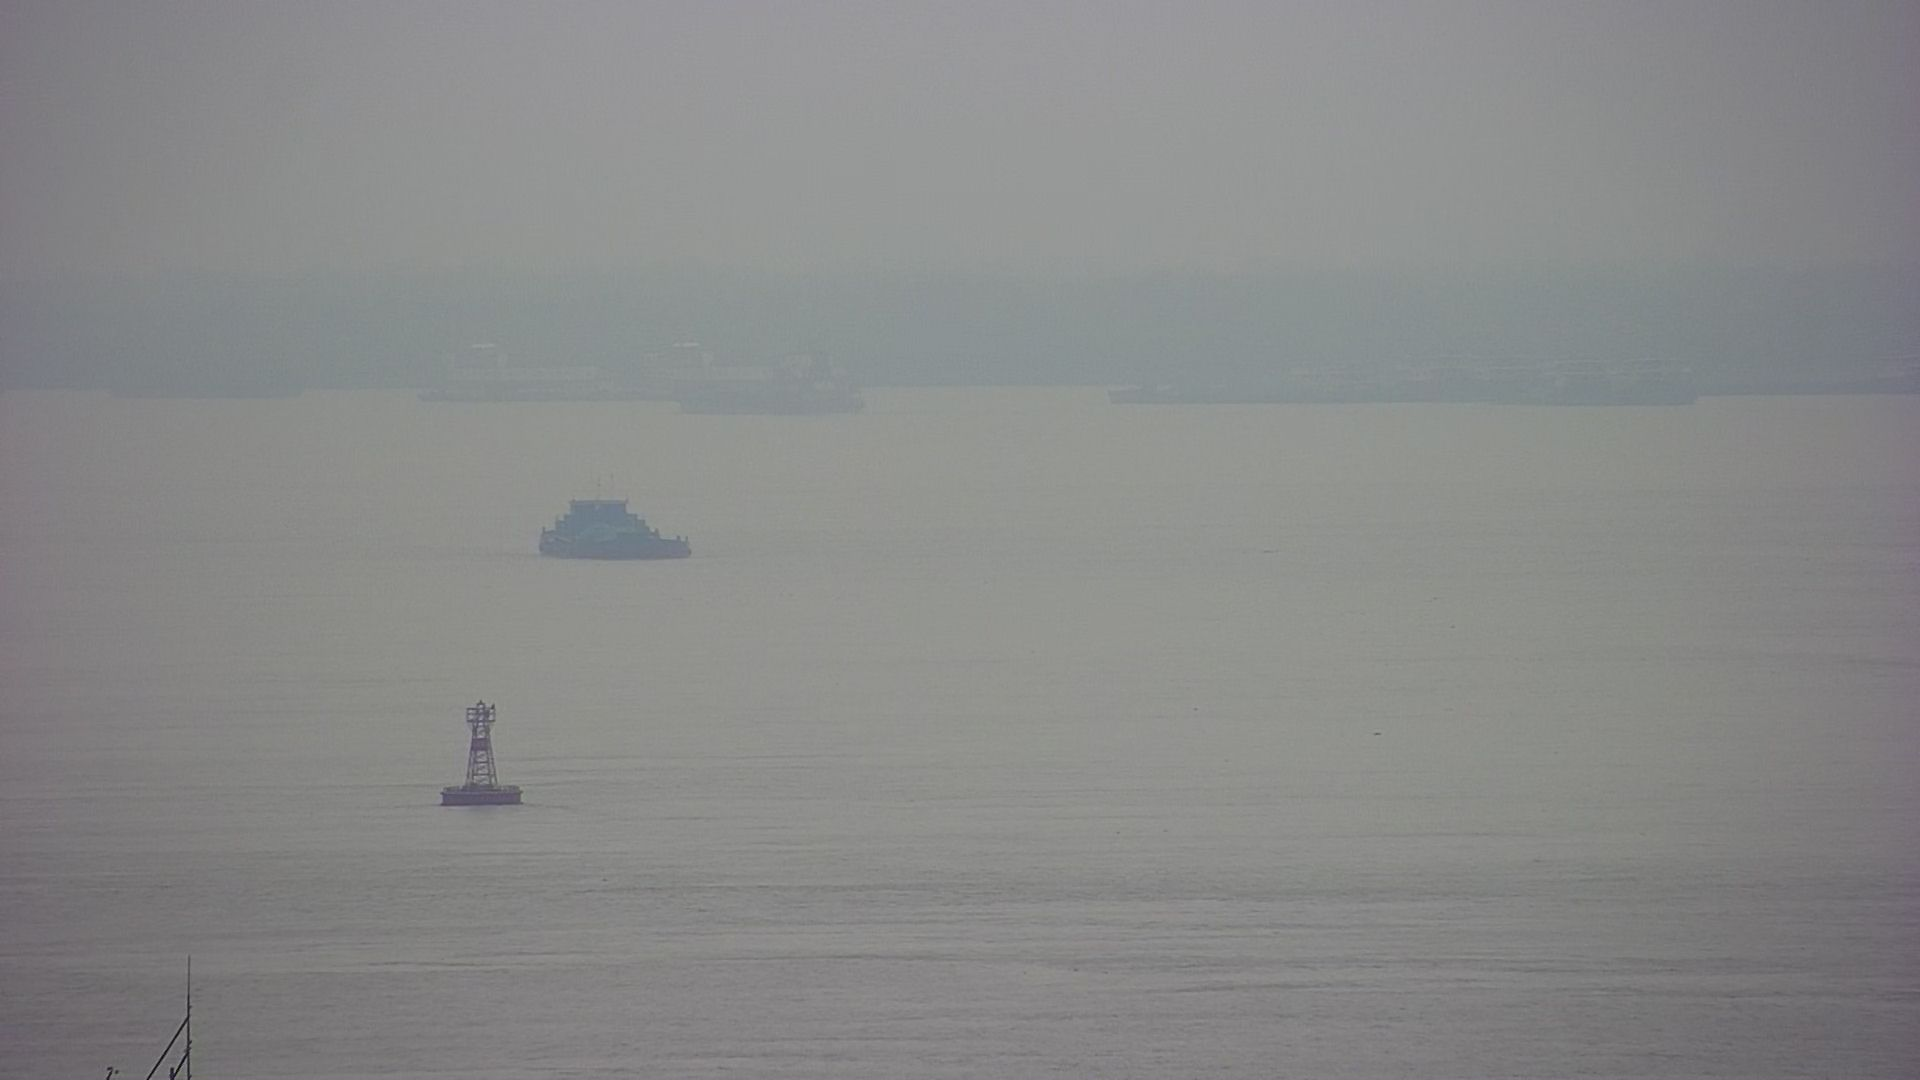buoy: (436, 699, 524, 814)
mast: (94, 949, 200, 1080)
ship: (533, 485, 688, 564)
